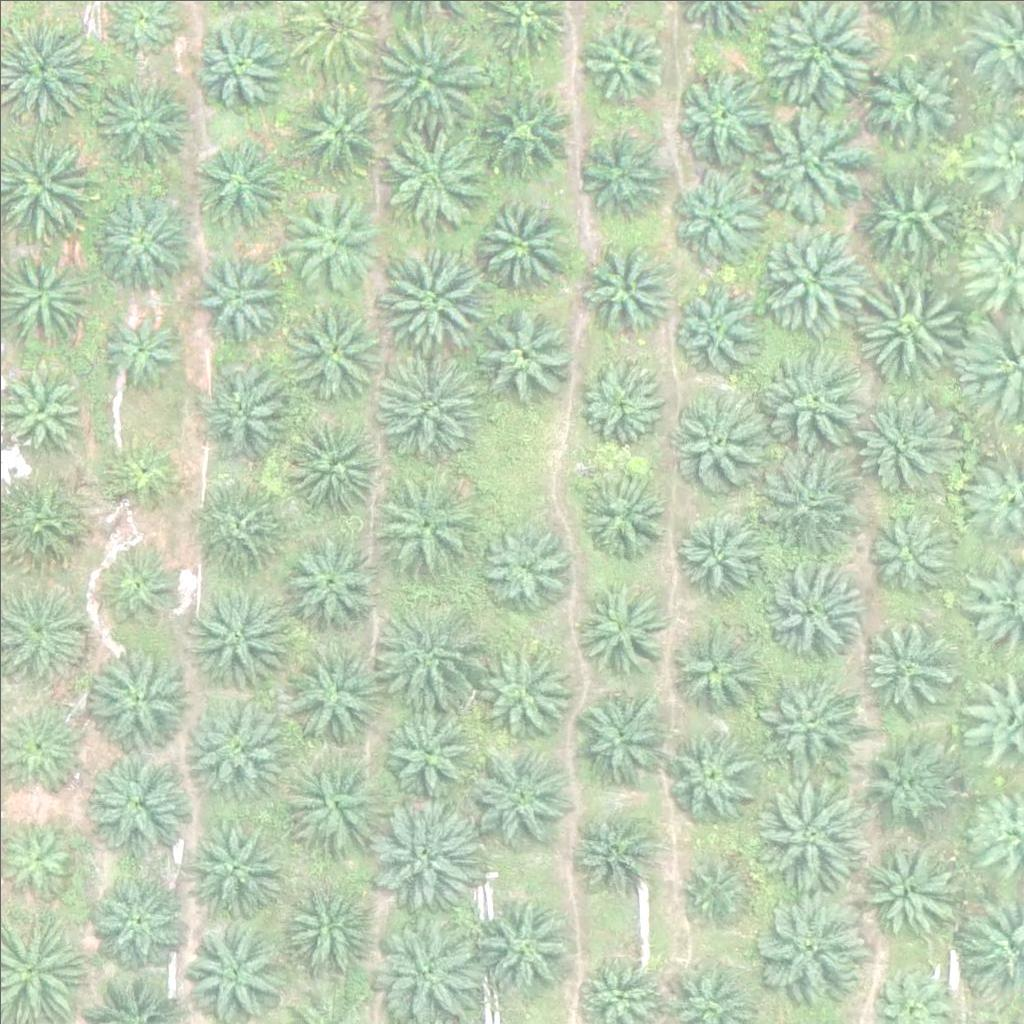Kelapa_Sawit: (849, 389, 962, 503), (757, 770, 870, 884), (755, 341, 868, 455), (371, 595, 484, 709), (367, 459, 480, 573), (371, 19, 484, 133), (757, 888, 870, 1001), (752, 448, 865, 561), (372, 793, 485, 906), (374, 348, 487, 461), (274, 747, 387, 860), (377, 112, 490, 225), (371, 241, 484, 354), (750, 108, 863, 221), (759, 222, 872, 335), (856, 263, 968, 376), (367, 906, 479, 1019), (275, 637, 387, 750), (177, 694, 289, 807), (181, 579, 293, 692), (863, 40, 975, 153), (859, 842, 959, 943), (761, 663, 861, 764), (759, 554, 859, 655), (661, 619, 761, 720), (572, 574, 672, 675), (472, 303, 572, 404), (477, 510, 577, 611), (474, 635, 574, 736), (466, 743, 566, 844), (472, 893, 572, 994), (381, 696, 481, 797), (276, 415, 376, 516), (276, 532, 376, 633), (278, 877, 378, 978), (187, 812, 287, 913), (192, 468, 292, 569), (187, 359, 287, 460), (89, 648, 189, 749), (94, 184, 194, 285), (92, 71, 192, 172), (190, 12, 290, 113), (284, 194, 384, 295), (287, 84, 387, 185), (672, 66, 772, 167), (854, 160, 954, 261), (862, 504, 962, 604), (855, 617, 955, 717), (856, 725, 956, 825), (661, 393, 761, 493), (662, 725, 762, 825), (561, 798, 661, 898), (568, 682, 668, 782), (568, 461, 668, 561), (669, 272, 769, 372), (280, 302, 380, 402), (176, 920, 276, 1020), (89, 872, 189, 972), (87, 751, 187, 851), (470, 194, 570, 294), (470, 80, 570, 180), (567, 129, 667, 229), (575, 238, 675, 338), (666, 165, 766, 265), (577, 363, 665, 451), (95, 433, 183, 521), (95, 546, 183, 634), (196, 139, 284, 227), (197, 248, 285, 336), (581, 11, 669, 99), (678, 507, 765, 595), (101, 301, 188, 389), (678, 846, 753, 922)
